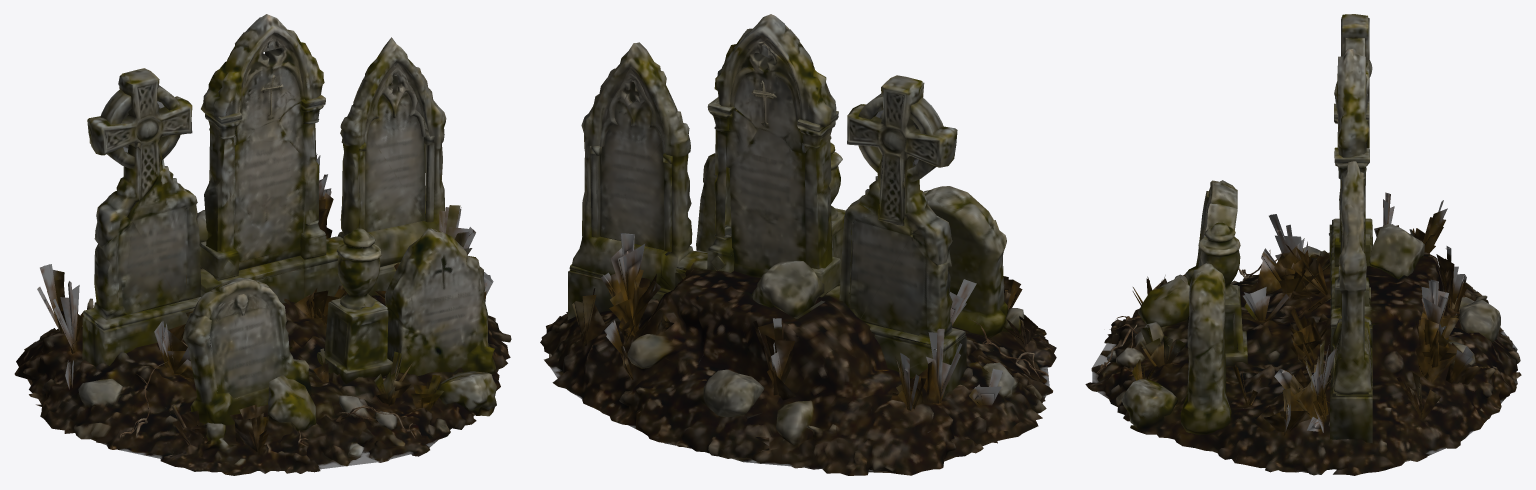
Rendered from graveyard_0.glb.
3 renders of one model, left to right at view 1: azimuth 30°, elevation 25°; view 2: azimuth 150°, elevation 25°; view 3: azimuth 270°, elevation 25°, orthographic. The views are drawn at different scales.
Visible parts, largest first — view 1: geometry_0; view 2: geometry_0; view 3: geometry_0.
Part boxes in pixels (x1,y1,x2,y2): geometry_0: (14,14,511,475); geometry_0: (540,14,1056,475); geometry_0: (1085,14,1521,475).
Size of the model in its own units: 0.9575 by 0.708 by 0.8496.
1 material, 1 textured.
